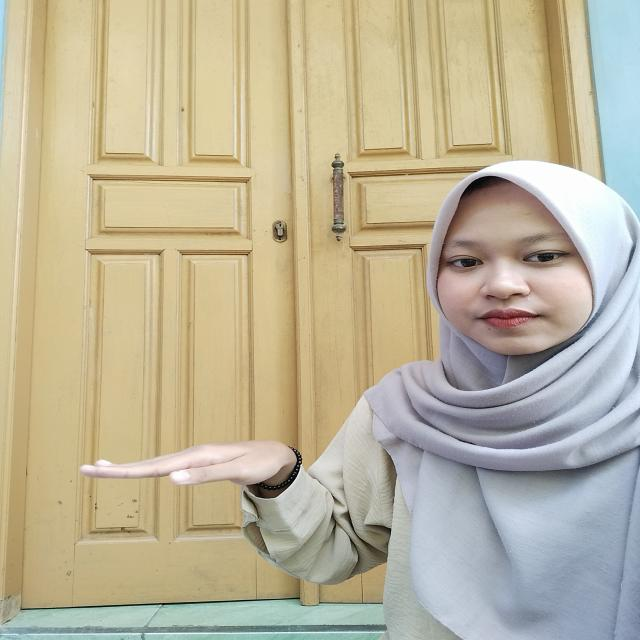adik: (68, 432, 342, 523)
